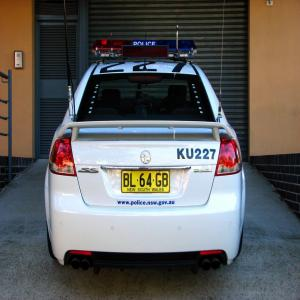Vehicle-registration-plate: (122, 170, 172, 193)
